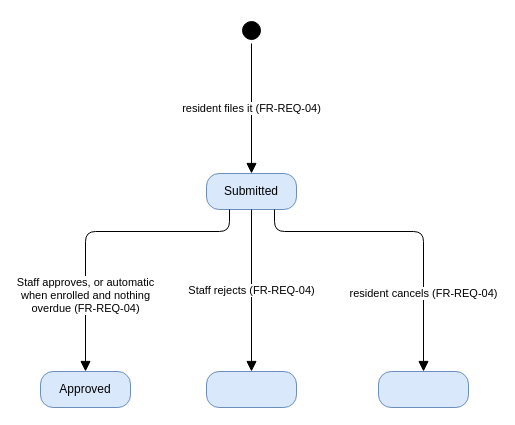
Some shapes in this 515 by 425 pixel diagram are drawn without their labels. Each missing label, with the box of its shape:
Cancelled: (378, 370, 468, 408)
Rejected: (206, 370, 296, 408)
